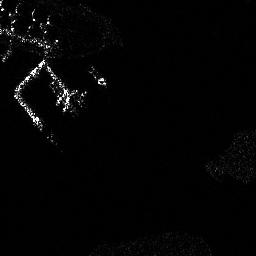ship: (87, 64, 107, 86)
